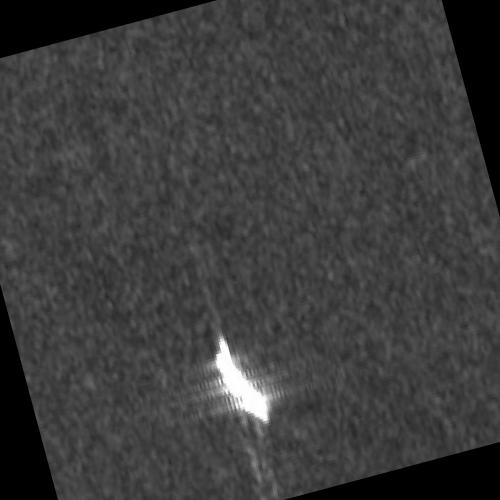ship: (215, 334, 271, 425)
